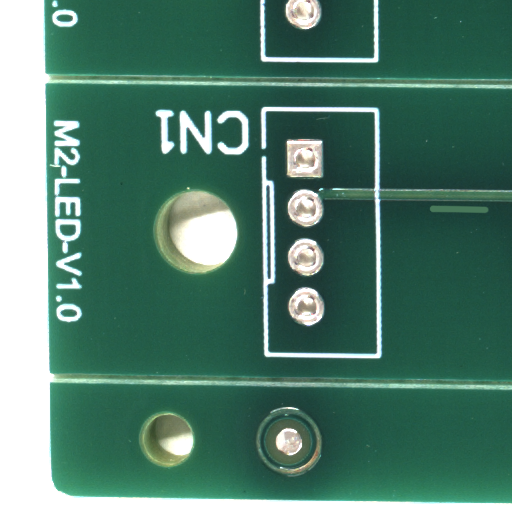Spurious_copper: (459, 208, 512, 220)
